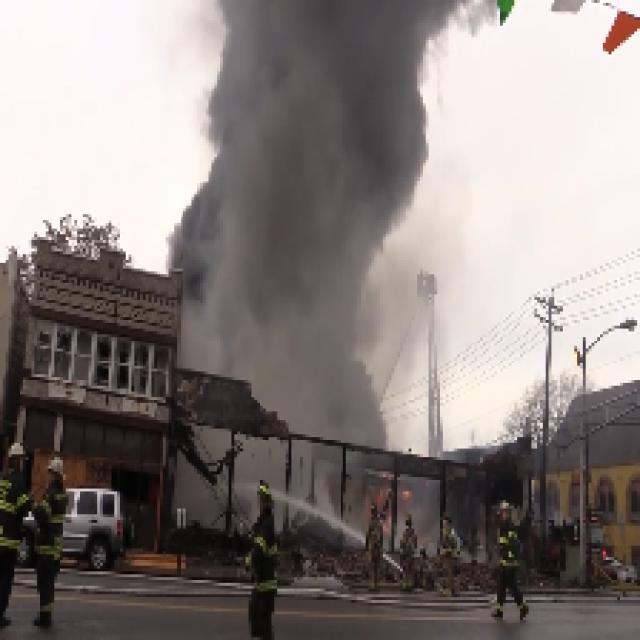smoke: (218, 0, 370, 369)
